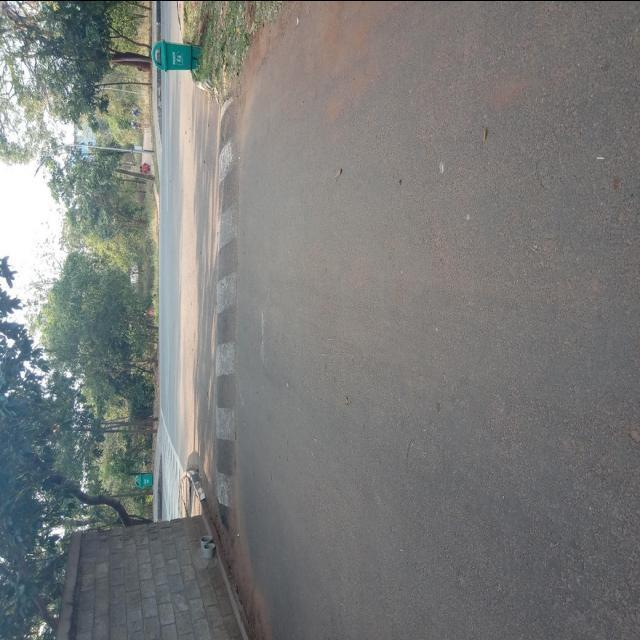speedbreaker: (206, 92, 242, 512)
